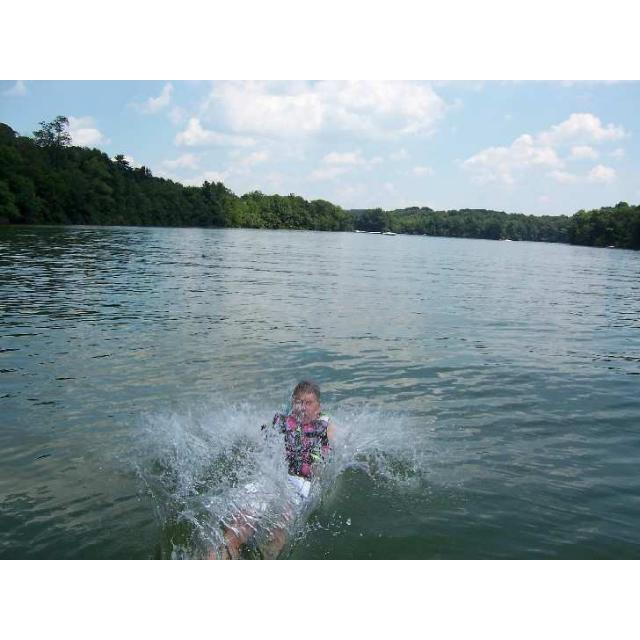human: (212, 381, 330, 560)
